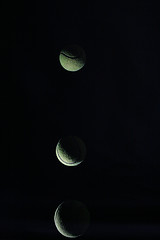tennis ball: (50, 205, 84, 239), (53, 136, 83, 169), (58, 51, 87, 72)
